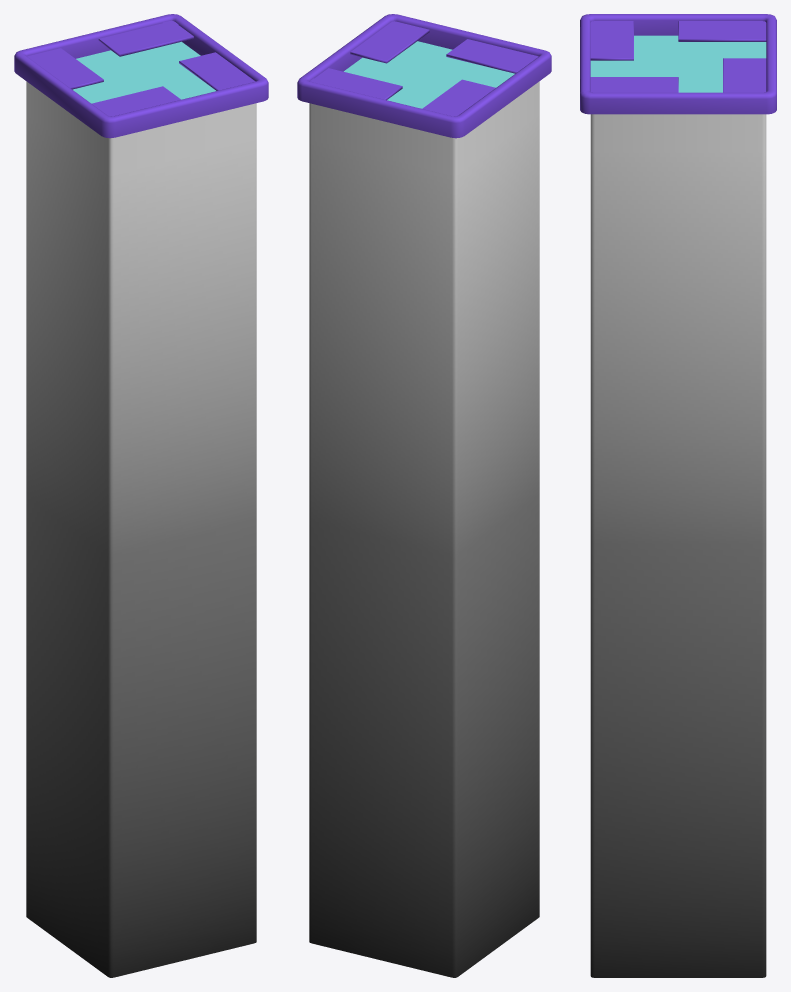
The model's file is Square_2x2.fbx.
The picture shows the model from 3 angles, left to right: view 1: azimuth 30°, elevation 25°; view 2: azimuth 150°, elevation 25°; view 3: azimuth 270°, elevation 25°; orthographic projection. The views are drawn at different scales.
Visible parts, largest first — view 1: Square_2x2, Square_2x2_Cap, Square_2x2_Stencil; view 2: Square_2x2, Square_2x2_Cap, Square_2x2_Stencil; view 3: Square_2x2, Square_2x2_Cap, Square_2x2_Stencil.
Boxes of the visible parts, x1=… form: Square_2x2: x1=14, y1=14, x2=268, y2=977; Square_2x2_Cap: x1=27, y1=23, x2=255, y2=116; Square_2x2_Stencil: x1=72, y1=41, x2=215, y2=103; Square_2x2: x1=297, y1=14, x2=551, y2=977; Square_2x2_Cap: x1=314, y1=21, x2=538, y2=116; Square_2x2_Stencil: x1=344, y1=41, x2=514, y2=108; Square_2x2: x1=580, y1=14, x2=776, y2=977; Square_2x2_Cap: x1=590, y1=21, x2=766, y2=92; Square_2x2_Stencil: x1=590, y1=35, x2=766, y2=92.
Size of the model in its own units: 2 by 9.94 by 2.
Materials: 3 (1 with a texture image).
